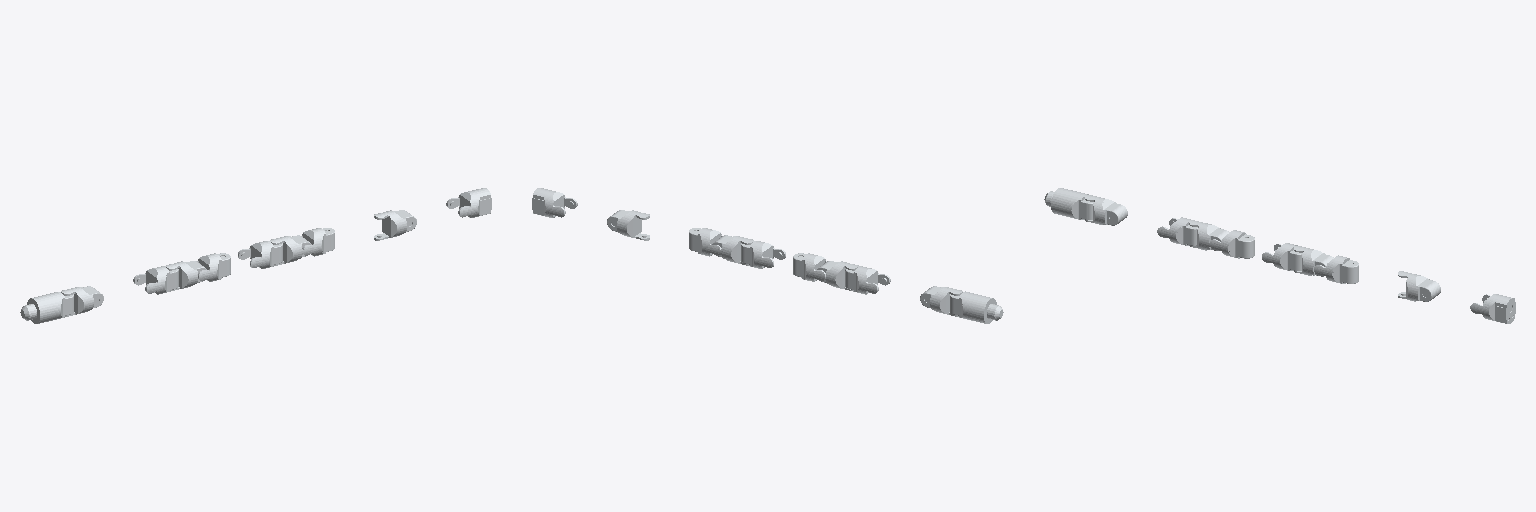
robot.urdf — kanake6_sim_0814:
<?xml version="1.0" encoding="utf-8"?>
<!-- This URDF was automatically created by SolidWorks to URDF Exporter! Originally created by Stephen Brawner (brawner@gmail.com) 
     Commit Version: 1.6.0-1-g15f4949  Build Version: 1.6.7594.29634
     For more information, please see http://wiki.ros.org/sw_urdf_exporter -->
<robot
  name="kanake6_sim_0814">
  <link
    name="head">
    <inertial>
      <origin
        xyz="-0.020216 -1.4347E-07 -1.5648E-06"
        rpy="0 0 0" />
      <mass
        value="0.036632" />
      <inertia
        ixx="6.2059E-06"
        ixy="-5.3009E-11"
        ixz="1.187E-09"
        iyy="8.2546E-06"
        iyz="-2.1317E-10"
        izz="7.9841E-06" />
    </inertial>
    <visual>
      <origin
        xyz="0 0 0"
        rpy="0 0 0" />
      <geometry>
        <mesh
          filename="package://kanake6_sim_0814/meshes/head.STL" />
      </geometry>
      <material
        name="">
        <color
          rgba="0.89412 0.91373 0.92941 1" />
      </material>
    </visual>
    <collision>
      <origin
        xyz="0 0 0"
        rpy="0 0 0" />
      <geometry>
        <mesh
          filename="package://kanake6_sim_0814/meshes/head.STL" />
      </geometry>
    </collision>
  </link>
  <link
    name="Link1">
    <inertial>
      <origin
        xyz="-0.0149144121017575 -3.73601402370699E-07 2.49693079046193E-08"
        rpy="0 0 0" />
      <mass
        value="0.0712511533582805" />
      <inertia
        ixx="1.04159884007023E-05"
        ixy="1.8621803777953E-10"
        ixz="-3.01043285854337E-11"
        iyy="1.64748507384434E-05"
        iyz="-1.82879175460904E-10"
        izz="1.64641321531213E-05" />
    </inertial>
    <visual>
      <origin
        xyz="0 0 0"
        rpy="0 0 0" />
      <geometry>
        <mesh
          filename="package://kanake6_sim_0814/meshes/Link1.STL" />
      </geometry>
      <material
        name="">
        <color
          rgba="0.894117647058823 0.913725490196078 0.929411764705882 1" />
      </material>
    </visual>
    <collision>
      <origin
        xyz="0 0 0"
        rpy="0 0 0" />
      <geometry>
        <mesh
          filename="package://kanake6_sim_0814/meshes/Link1.STL" />
      </geometry>
    </collision>
  </link>
  <joint
    name="j1"
    type="revolute">
    <origin
      xyz="-0.04735 0 0"
      rpy="-1.5708 0 0" />
    <parent
      link="head" />
    <child
      link="Link1" />
    <axis
      xyz="0 0 1" />
    <limit
      lower="0"
      upper="0"
      effort="0"
      velocity="0" />
  </joint>
  <link
    name="Link2">
    <inertial>
      <origin
        xyz="-0.0149144121027439 3.73601402673777E-07 -2.49693082275194E-08"
        rpy="0 0 0" />
      <mass
        value="0.0712511533582805" />
      <inertia
        ixx="1.04159884007023E-05"
        ixy="-1.86218037781236E-10"
        ixz="3.01043285840852E-11"
        iyy="1.64748507384434E-05"
        iyz="-1.82879175459459E-10"
        izz="1.64641321531213E-05" />
    </inertial>
    <visual>
      <origin
        xyz="0 0 0"
        rpy="0 0 0" />
      <geometry>
        <mesh
          filename="package://kanake6_sim_0814/meshes/Link2.STL" />
      </geometry>
      <material
        name="">
        <color
          rgba="0.894117647058823 0.913725490196078 0.929411764705882 1" />
      </material>
    </visual>
    <collision>
      <origin
        xyz="0 0 0"
        rpy="0 0 0" />
      <geometry>
        <mesh
          filename="package://kanake6_sim_0814/meshes/Link2.STL" />
      </geometry>
    </collision>
  </link>
  <joint
    name="j2"
    type="revolute">
    <origin
      xyz="-0.0426 0 0"
      rpy="1.5707963267949 0 0" />
    <parent
      link="Link1" />
    <child
      link="Link2" />
    <axis
      xyz="0 0 1" />
    <limit
      lower="0"
      upper="0"
      effort="0"
      velocity="0" />
  </joint>
  <link
    name="Link3">
    <inertial>
      <origin
        xyz="-0.0149144121037305 -3.73601402390016E-07 2.49693078992729E-08"
        rpy="0 0 0" />
      <mass
        value="0.0712511533582807" />
      <inertia
        ixx="1.04159884007024E-05"
        ixy="1.86218037778615E-10"
        ixz="-3.01043285855364E-11"
        iyy="1.64748507384434E-05"
        iyz="-1.82879175460119E-10"
        izz="1.64641321531213E-05" />
    </inertial>
    <visual>
      <origin
        xyz="0 0 0"
        rpy="0 0 0" />
      <geometry>
        <mesh
          filename="package://kanake6_sim_0814/meshes/Link3.STL" />
      </geometry>
      <material
        name="">
        <color
          rgba="0.894117647058823 0.913725490196078 0.929411764705882 1" />
      </material>
    </visual>
    <collision>
      <origin
        xyz="0 0 0"
        rpy="0 0 0" />
      <geometry>
        <mesh
          filename="package://kanake6_sim_0814/meshes/Link3.STL" />
      </geometry>
    </collision>
  </link>
  <joint
    name="j3"
    type="revolute">
    <origin
      xyz="-0.0426 0 0"
      rpy="-1.5707963267949 0 0" />
    <parent
      link="Link2" />
    <child
      link="Link3" />
    <axis
      xyz="0 0 1" />
    <limit
      lower="0"
      upper="0"
      effort="0"
      velocity="0" />
  </joint>
  <link
    name="Link4">
    <inertial>
      <origin
        xyz="-0.0149144121047168 3.73601402680042E-07 -2.49693078684758E-08"
        rpy="0 0 0" />
      <mass
        value="0.0712511533582804" />
      <inertia
        ixx="1.04159884007023E-05"
        ixy="-1.86218037781476E-10"
        ixz="3.01043285846223E-11"
        iyy="1.64748507384434E-05"
        iyz="-1.82879175459145E-10"
        izz="1.64641321531213E-05" />
    </inertial>
    <visual>
      <origin
        xyz="0 0 0"
        rpy="0 0 0" />
      <geometry>
        <mesh
          filename="package://kanake6_sim_0814/meshes/Link4.STL" />
      </geometry>
      <material
        name="">
        <color
          rgba="0.894117647058823 0.913725490196078 0.929411764705882 1" />
      </material>
    </visual>
    <collision>
      <origin
        xyz="0 0 0"
        rpy="0 0 0" />
      <geometry>
        <mesh
          filename="package://kanake6_sim_0814/meshes/Link4.STL" />
      </geometry>
    </collision>
  </link>
  <joint
    name="j4"
    type="revolute">
    <origin
      xyz="-0.0426000000000001 0 0"
      rpy="1.5707963267949 0 0" />
    <parent
      link="Link3" />
    <child
      link="Link4" />
    <axis
      xyz="0 0 1" />
    <limit
      lower="0"
      upper="0"
      effort="0"
      velocity="0" />
  </joint>
  <link
    name="Link5">
    <inertial>
      <origin
        xyz="-0.0149144121057032 -3.73601402771178E-07 2.49693078958384E-08"
        rpy="0 0 0" />
      <mass
        value="0.0712511533582805" />
      <inertia
        ixx="1.04159884007023E-05"
        ixy="1.86218037769447E-10"
        ixz="-3.01043285813938E-11"
        iyy="1.64748507384434E-05"
        iyz="-1.82879175458871E-10"
        izz="1.64641321531213E-05" />
    </inertial>
    <visual>
      <origin
        xyz="0 0 0"
        rpy="0 0 0" />
      <geometry>
        <mesh
          filename="package://kanake6_sim_0814/meshes/Link5.STL" />
      </geometry>
      <material
        name="">
        <color
          rgba="0.894117647058823 0.913725490196078 0.929411764705882 1" />
      </material>
    </visual>
    <collision>
      <origin
        xyz="0 0 0"
        rpy="0 0 0" />
      <geometry>
        <mesh
          filename="package://kanake6_sim_0814/meshes/Link5.STL" />
      </geometry>
    </collision>
  </link>
  <joint
    name="j5"
    type="revolute">
    <origin
      xyz="-0.0426 0 0"
      rpy="-1.5707963267949 0 0" />
    <parent
      link="Link4" />
    <child
      link="Link5" />
    <axis
      xyz="0 0 1" />
    <limit
      lower="0"
      upper="0"
      effort="0"
      velocity="0" />
  </joint>
  <link
    name="Link6">
    <inertial>
      <origin
        xyz="-0.0149144121066896 3.73601402685894E-07 -2.49693064988518E-08"
        rpy="0 0 0" />
      <mass
        value="0.0712511533582805" />
      <inertia
        ixx="1.04159884007023E-05"
        ixy="-1.86218037775225E-10"
        ixz="3.01043285873091E-11"
        iyy="1.64748507384434E-05"
        iyz="-1.82879175459083E-10"
        izz="1.64641321531214E-05" />
    </inertial>
    <visual>
      <origin
        xyz="0 0 0"
        rpy="0 0 0" />
      <geometry>
        <mesh
          filename="package://kanake6_sim_0814/meshes/Link6.STL" />
      </geometry>
      <material
        name="">
        <color
          rgba="0.894117647058823 0.913725490196078 0.929411764705882 1" />
      </material>
    </visual>
    <collision>
      <origin
        xyz="0 0 0"
        rpy="0 0 0" />
      <geometry>
        <mesh
          filename="package://kanake6_sim_0814/meshes/Link6.STL" />
      </geometry>
    </collision>
  </link>
  <joint
    name="j6"
    type="revolute">
    <origin
      xyz="-0.0426 0 0"
      rpy="1.5707963267949 0 0" />
    <parent
      link="Link5" />
    <child
      link="Link6" />
    <axis
      xyz="0 0 1" />
    <limit
      lower="0"
      upper="0"
      effort="0"
      velocity="0" />
  </joint>
  <link
    name="Link7">
    <inertial>
      <origin
        xyz="-0.014914412107676 -3.73601404135491E-07 2.49693078946006E-08"
        rpy="0 0 0" />
      <mass
        value="0.0712511533582806" />
      <inertia
        ixx="1.04159884007023E-05"
        ixy="1.86218037787258E-10"
        ixz="-3.01043285862094E-11"
        iyy="1.64748507384434E-05"
        iyz="-1.82879175460284E-10"
        izz="1.64641321531214E-05" />
    </inertial>
    <visual>
      <origin
        xyz="0 0 0"
        rpy="0 0 0" />
      <geometry>
        <mesh
          filename="package://kanake6_sim_0814/meshes/Link7.STL" />
      </geometry>
      <material
        name="">
        <color
          rgba="0.894117647058823 0.913725490196078 0.929411764705882 1" />
      </material>
    </visual>
    <collision>
      <origin
        xyz="0 0 0"
        rpy="0 0 0" />
      <geometry>
        <mesh
          filename="package://kanake6_sim_0814/meshes/Link7.STL" />
      </geometry>
    </collision>
  </link>
  <joint
    name="j7"
    type="revolute">
    <origin
      xyz="-0.0426 0 0"
      rpy="-1.5707963267949 0 0" />
    <parent
      link="Link6" />
    <child
      link="Link7" />
    <axis
      xyz="0 0 1" />
    <limit
      lower="0"
      upper="0"
      effort="0"
      velocity="0" />
  </joint>
  <link
    name="Link8">
    <inertial>
      <origin
        xyz="-0.0149144121086625 3.73601402681117E-07 -2.49693065571685E-08"
        rpy="0 0 0" />
      <mass
        value="0.0712511533582805" />
      <inertia
        ixx="1.04159884007023E-05"
        ixy="-1.8621803777398E-10"
        ixz="3.01043285848382E-11"
        iyy="1.64748507384434E-05"
        iyz="-1.82879175459632E-10"
        izz="1.64641321531214E-05" />
    </inertial>
    <visual>
      <origin
        xyz="0 0 0"
        rpy="0 0 0" />
      <geometry>
        <mesh
          filename="package://kanake6_sim_0814/meshes/Link8.STL" />
      </geometry>
      <material
        name="">
        <color
          rgba="0.894117647058823 0.913725490196078 0.929411764705882 1" />
      </material>
    </visual>
    <collision>
      <origin
        xyz="0 0 0"
        rpy="0 0 0" />
      <geometry>
        <mesh
          filename="package://kanake6_sim_0814/meshes/Link8.STL" />
      </geometry>
    </collision>
  </link>
  <joint
    name="j8"
    type="revolute">
    <origin
      xyz="-0.0426 0 0"
      rpy="1.5707963267949 0 0" />
    <parent
      link="Link7" />
    <child
      link="Link8" />
    <axis
      xyz="0 0 1" />
    <limit
      lower="0"
      upper="0"
      effort="0"
      velocity="0" />
  </joint>
  <link
    name="Link9">
    <inertial>
      <origin
        xyz="-0.0149144121096488 -3.736014039664E-07 2.49693079023127E-08"
        rpy="0 0 0" />
      <mass
        value="0.0712511533582805" />
      <inertia
        ixx="1.04159884007023E-05"
        ixy="1.86218037784197E-10"
        ixz="-3.01043285851698E-11"
        iyy="1.64748507384434E-05"
        iyz="-1.82879175458627E-10"
        izz="1.64641321531213E-05" />
    </inertial>
    <visual>
      <origin
        xyz="0 0 0"
        rpy="0 0 0" />
      <geometry>
        <mesh
          filename="package://kanake6_sim_0814/meshes/Link9.STL" />
      </geometry>
      <material
        name="">
        <color
          rgba="0.894117647058823 0.913725490196078 0.929411764705882 1" />
      </material>
    </visual>
    <collision>
      <origin
        xyz="0 0 0"
        rpy="0 0 0" />
      <geometry>
        <mesh
          filename="package://kanake6_sim_0814/meshes/Link9.STL" />
      </geometry>
    </collision>
  </link>
  <joint
    name="j9"
    type="revolute">
    <origin
      xyz="-0.0426 0 0"
      rpy="-1.5707963267949 0 0" />
    <parent
      link="Link8" />
    <child
      link="Link9" />
    <axis
      xyz="0 0 1" />
    <limit
      lower="0"
      upper="0"
      effort="0"
      velocity="0" />
  </joint>
  <link
    name="Link10">
    <inertial>
      <origin
        xyz="-0.0149144121106352 3.73601402682045E-07 -2.4969306617751E-08"
        rpy="0 0 0" />
      <mass
        value="0.0712511533582806" />
      <inertia
        ixx="1.04159884007023E-05"
        ixy="-1.86218037776706E-10"
        ixz="3.01043285870208E-11"
        iyy="1.64748507384434E-05"
        iyz="-1.82879175460262E-10"
        izz="1.64641321531214E-05" />
    </inertial>
    <visual>
      <origin
        xyz="0 0 0"
        rpy="0 0 0" />
      <geometry>
        <mesh
          filename="package://kanake6_sim_0814/meshes/Link10.STL" />
      </geometry>
      <material
        name="">
        <color
          rgba="0.894117647058823 0.913725490196078 0.929411764705882 1" />
      </material>
    </visual>
    <collision>
      <origin
        xyz="0 0 0"
        rpy="0 0 0" />
      <geometry>
        <mesh
          filename="package://kanake6_sim_0814/meshes/Link10.STL" />
      </geometry>
    </collision>
  </link>
  <joint
    name="j10"
    type="revolute">
    <origin
      xyz="-0.0426 0 0"
      rpy="1.5707963267949 0 0" />
    <parent
      link="Link9" />
    <child
      link="Link10" />
    <axis
      xyz="0 0 1" />
    <limit
      lower="0"
      upper="0"
      effort="0"
      velocity="0" />
  </joint>
  <link
    name="Link11">
    <inertial>
      <origin
        xyz="-0.0149144121016217 -3.73601403947256E-07 2.49693079065026E-08"
        rpy="0 0 0" />
      <mass
        value="0.0712511533582805" />
      <inertia
        ixx="1.04159884007023E-05"
        ixy="1.86218037780739E-10"
        ixz="-3.01043285809939E-11"
        iyy="1.64748507384434E-05"
        iyz="-1.82879175458613E-10"
        izz="1.64641321531213E-05" />
    </inertial>
    <visual>
      <origin
        xyz="0 0 0"
        rpy="0 0 0" />
      <geometry>
        <mesh
          filename="package://kanake6_sim_0814/meshes/Link11.STL" />
      </geometry>
      <material
        name="">
        <color
          rgba="0.894117647058823 0.913725490196078 0.929411764705882 1" />
      </material>
    </visual>
    <collision>
      <origin
        xyz="0 0 0"
        rpy="0 0 0" />
      <geometry>
        <mesh
          filename="package://kanake6_sim_0814/meshes/Link11.STL" />
      </geometry>
    </collision>
  </link>
  <joint
    name="j11"
    type="revolute">
    <origin
      xyz="-0.04260000001 0 0"
      rpy="-1.5707963267949 0 0" />
    <parent
      link="Link10" />
    <child
      link="Link11" />
    <axis
      xyz="0 0 1" />
    <limit
      lower="0"
      upper="0"
      effort="0"
      velocity="0" />
  </joint>
  <link
    name="Link12">
    <inertial>
      <origin
        xyz="-0.0149144121026081 3.73601402666147E-07 -2.49693066434289E-08"
        rpy="0 0 0" />
      <mass
        value="0.0712511533582805" />
      <inertia
        ixx="1.04159884007023E-05"
        ixy="-1.86218037778304E-10"
        ixz="3.01043285854702E-11"
        iyy="1.64748507384434E-05"
        iyz="-1.82879175458546E-10"
        izz="1.64641321531213E-05" />
    </inertial>
    <visual>
      <origin
        xyz="0 0 0"
        rpy="0 0 0" />
      <geometry>
        <mesh
          filename="package://kanake6_sim_0814/meshes/Link12.STL" />
      </geometry>
      <material
        name="">
        <color
          rgba="0.894117647058823 0.913725490196078 0.929411764705882 1" />
      </material>
    </visual>
    <collision>
      <origin
        xyz="0 0 0"
        rpy="0 0 0" />
      <geometry>
        <mesh
          filename="package://kanake6_sim_0814/meshes/Link12.STL" />
      </geometry>
    </collision>
  </link>
  <joint
    name="j12"
    type="revolute">
    <origin
      xyz="-0.0426 0 0"
      rpy="1.5707963267949 0 0" />
    <parent
      link="Link11" />
    <child
      link="Link12" />
    <axis
      xyz="0 0 1" />
    <limit
      lower="0"
      upper="0"
      effort="0"
      velocity="0" />
  </joint>
  <link
    name="Link13">
    <inertial>
      <origin
        xyz="-0.0149144121035945 -3.73601403986036E-07 2.49693078891364E-08"
        rpy="0 0 0" />
      <mass
        value="0.0712511533582805" />
      <inertia
        ixx="1.04159884007023E-05"
        ixy="1.86218037769066E-10"
        ixz="-3.01043285852169E-11"
        iyy="1.64748507384434E-05"
        iyz="-1.82879175459947E-10"
        izz="1.64641321531214E-05" />
    </inertial>
    <visual>
      <origin
        xyz="0 0 0"
        rpy="0 0 0" />
      <geometry>
        <mesh
          filename="package://kanake6_sim_0814/meshes/Link13.STL" />
      </geometry>
      <material
        name="">
        <color
          rgba="0.894117647058823 0.913725490196078 0.929411764705882 1" />
      </material>
    </visual>
    <collision>
      <origin
        xyz="0 0 0"
        rpy="0 0 0" />
      <geometry>
        <mesh
          filename="package://kanake6_sim_0814/meshes/Link13.STL" />
      </geometry>
    </collision>
  </link>
  <joint
    name="j13"
    type="revolute">
    <origin
      xyz="-0.0426 0 0"
      rpy="-1.5708 0 0" />
    <parent
      link="Link12" />
    <child
      link="Link13" />
    <axis
      xyz="0 0 1" />
    <limit
      lower="0"
      upper="0"
      effort="0"
      velocity="0" />
  </joint>
  <link
    name="Link14">
    <inertial>
      <origin
        xyz="-0.014914412104581 3.73601402686845E-07 -2.49693066062366E-08"
        rpy="0 0 0" />
      <mass
        value="0.0712511533582805" />
      <inertia
        ixx="1.04159884007023E-05"
        ixy="-1.86218037776652E-10"
        ixz="3.01043285849749E-11"
        iyy="1.64748507384434E-05"
        iyz="-1.82879175460149E-10"
        izz="1.64641321531214E-05" />
    </inertial>
    <visual>
      <origin
        xyz="0 0 0"
        rpy="0 0 0" />
      <geometry>
        <mesh
          filename="package://kanake6_sim_0814/meshes/Link14.STL" />
      </geometry>
      <material
        name="">
        <color
          rgba="0.894117647058823 0.913725490196078 0.929411764705882 1" />
      </material>
    </visual>
    <collision>
      <origin
        xyz="0 0 0"
        rpy="0 0 0" />
      <geometry>
        <mesh
          filename="package://kanake6_sim_0814/meshes/Link14.STL" />
      </geometry>
    </collision>
  </link>
  <joint
    name="j14"
    type="revolute">
    <origin
      xyz="-0.0426 0 0"
      rpy="1.5707963267949 0 0" />
    <parent
      link="Link13" />
    <child
      link="Link14" />
    <axis
      xyz="0 0 1" />
    <limit
      lower="0"
      upper="0"
      effort="0"
      velocity="0" />
  </joint>
  <link
    name="Link15">
    <inertial>
      <origin
        xyz="-0.0149144121055674 -3.73601403994267E-07 2.49693079072165E-08"
        rpy="0 0 0" />
      <mass
        value="0.0712511533582806" />
      <inertia
        ixx="1.04159884007023E-05"
        ixy="1.86218037776971E-10"
        ixz="-3.01043285843205E-11"
        iyy="1.64748507384434E-05"
        iyz="-1.82879175458881E-10"
        izz="1.64641321531214E-05" />
    </inertial>
    <visual>
      <origin
        xyz="0 0 0"
        rpy="0 0 0" />
      <geometry>
        <mesh
          filename="package://kanake6_sim_0814/meshes/Link15.STL" />
      </geometry>
      <material
        name="">
        <color
          rgba="0.894117647058823 0.913725490196078 0.929411764705882 1" />
      </material>
    </visual>
    <collision>
      <origin
        xyz="0 0 0"
        rpy="0 0 0" />
      <geometry>
        <mesh
          filename="package://kanake6_sim_0814/meshes/Link15.STL" />
      </geometry>
    </collision>
  </link>
  <joint
    name="j15"
    type="revolute">
    <origin
      xyz="-0.0426 0 0"
      rpy="-1.5707963267949 0 0" />
    <parent
      link="Link14" />
    <child
      link="Link15" />
    <axis
      xyz="0 0 1" />
    <limit
      lower="0"
      upper="0"
      effort="0"
      velocity="0" />
  </joint>
  <link
    name="tail">
    <inertial>
      <origin
        xyz="-0.029369081482287 -1.78870155543676E-06 -7.22138155215276E-09"
        rpy="0 0 0" />
      <mass
        value="0.101630885268055" />
      <inertia
        ixx="1.48846790268216E-05"
        ixy="3.12521137612343E-09"
        ixz="-1.03182631289645E-12"
        iyy="4.61731081327436E-05"
        iyz="-1.31870601123908E-09"
        izz="4.52018388107927E-05" />
    </inertial>
    <visual>
      <origin
        xyz="0 0 0"
        rpy="0 0 0" />
      <geometry>
        <mesh
          filename="package://kanake6_sim_0814/meshes/tail.STL" />
      </geometry>
      <material
        name="">
        <color
          rgba="0.894117647058823 0.913725490196078 0.929411764705882 1" />
      </material>
    </visual>
    <collision>
      <origin
        xyz="0 0 0"
        rpy="0 0 0" />
      <geometry>
        <mesh
          filename="package://kanake6_sim_0814/meshes/tail.STL" />
      </geometry>
    </collision>
  </link>
  <joint
    name="j16"
    type="revolute">
    <origin
      xyz="-0.0426 0 0"
      rpy="1.5707963267949 0 0" />
    <parent
      link="Link15" />
    <child
      link="tail" />
    <axis
      xyz="0 0 1" />
    <limit
      lower="0"
      upper="0"
      effort="0"
      velocity="0" />
  </joint>
</robot>

--- Render facts (derived) ---
3 views of the same robot in one strip: view 1: azimuth 30°, elevation 25°; view 2: azimuth 150°, elevation 25°; view 3: azimuth 330°, elevation 25° (orthographic).
Robot: kanake6_sim_0814 — 17 links, 16 joints (16 revolute); root link head; default pose: every joint at zero.
Visible links, largest first — view 1: tail, head, Link12, Link8, Link3, Link10, Link6, Link15, Link7, Link11; view 2: tail, head, Link12, Link8, Link3, Link10, Link6, Link15, Link7, Link11; view 3: tail, head, Link10, Link6, Link3, Link15, Link8, Link12, Link11, Link7.
Boxes of the visible links, x1,y1,x2,y2 form: tail: [20, 292, 73, 323]; head: [446, 188, 491, 217]; Link12: [133, 266, 178, 294]; Link8: [238, 241, 282, 268]; Link3: [374, 210, 416, 240]; Link10: [197, 253, 230, 281]; Link6: [302, 228, 334, 256]; Link15: [61, 286, 103, 316]; Link7: [270, 235, 311, 265]; Link11: [165, 261, 206, 291]; tail: [950, 291, 1003, 323]; head: [532, 188, 577, 217]; Link12: [845, 266, 890, 294]; Link8: [741, 241, 785, 268]; Link3: [607, 210, 649, 240]; Link10: [793, 253, 826, 281]; Link6: [689, 228, 721, 256]; Link15: [920, 286, 962, 316]; Link7: [712, 235, 753, 265]; Link11: [817, 261, 858, 291]; tail: [1044, 188, 1093, 219]; head: [1470, 294, 1515, 323]; Link10: [1209, 230, 1254, 258]; Link6: [1314, 255, 1358, 283]; Link3: [1398, 271, 1440, 301]; Link15: [1085, 195, 1127, 225]; Link8: [1262, 243, 1302, 270]; Link12: [1157, 217, 1197, 245]; Link11: [1189, 220, 1229, 250]; Link7: [1294, 246, 1333, 276].
Bounding box of the posed robot: 0.7579 × 0.038 × 0.038 m (x, y, z).
Meshes: 17 distinct files referenced, 10 mesh visuals loaded (10 binary STL); not drawn: 7 (reference not matched to a file when rendering).
